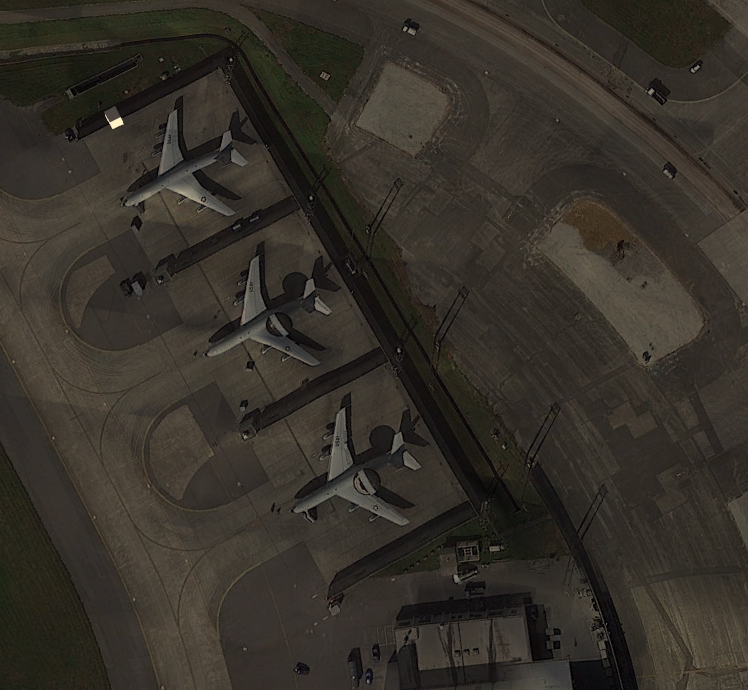A11: (115, 102, 261, 223)
A7: (191, 252, 337, 373), (276, 408, 422, 529)
